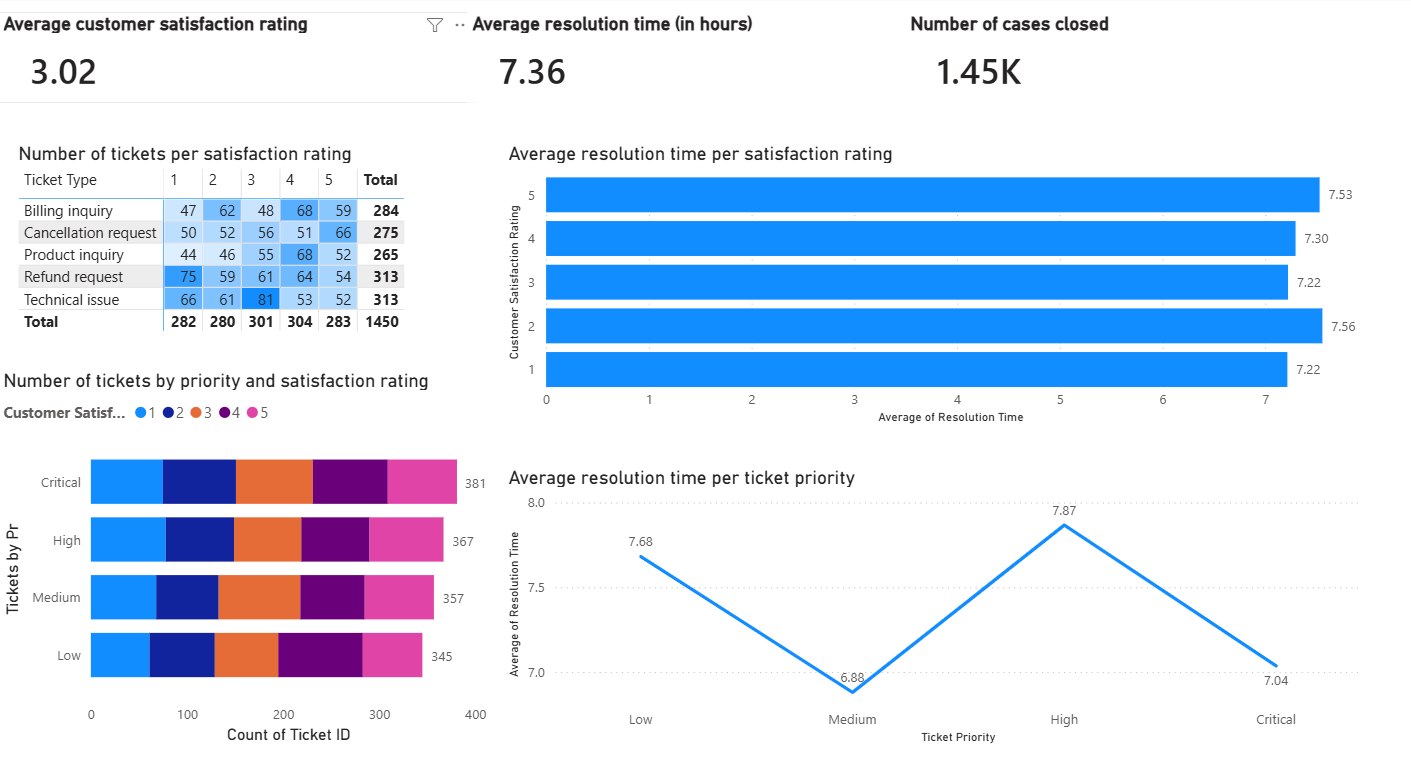

The page's visual inventory and layout, read from the dashboard file:
{"tool":"powerbi","page":{"name":"Page 1","canvas":[1280,720],"ordinal":0},"visuals":[{"type":"clusteredBarChart","title":"Average resolution time per satisfaction rating","fields":{"Category":["customer_support_tickets.Customer Satisfaction Rating"],"Y":["Avg(customer_support_tickets.Resolution Time)"]},"box":[456.8,131.2,780.7,259.6],"z":0},{"type":"pivotTable","title":"Number of tickets per satisfaction rating","fields":{"Rows":["customer_support_tickets.Ticket Type"],"Columns":["customer_support_tickets.Customer Satisfaction Rating"],"Values":["CountNonNull(customer_support_tickets.Ticket ID)"]},"box":[13.6,131.2,443.3,180],"z":1000},{"type":"cardVisual","title":"Average customer satisfaction rating","fields":{"Data":["Avg(customer_support_tickets.Customer Satisfaction Rating)"]},"box":[0,13.6,432.4,82.3],"z":2000},{"type":"cardVisual","title":"Average resolution time (in hours)","fields":{"Data":["Avg(customer_support_tickets.Resolution Time)"]},"box":[424.3,13.6,432.4,82.3],"z":3000},{"type":"barChart","title":"Number of tickets by priority and satisfaction rating","fields":{"Category":["customer_support_tickets.Ticket Priority"],"Series":["customer_support_tickets.Customer Satisfaction Rating"],"Y":["CountNonNull(customer_support_tickets.Ticket ID)"]},"box":[0,336.5,456.8,343.7],"z":4000},{"type":"cardVisual","title":"Number of cases closed","fields":{"Data":["CountNonNull(customer_support_tickets.Ticket ID)"]},"box":[820.5,13.6,372.7,82.3],"z":5000},{"type":"lineChart","title":"Average resolution time per ticket priority","fields":{"Category":["customer_support_tickets.Ticket Priority"],"Y":["Avg(customer_support_tickets.Resolution Time)"]},"box":[457,424,781,256],"z":6000}]}

Visuals, with their boxes in screenshot pixels (x1, y1, x2, y2), scaled from the page's 1280x720 canvas onto the 1411x780 screenshot:
"Average resolution time per satisfaction rating" clusteredBarChart: bbox=(504, 142, 1364, 423)
"Number of tickets per satisfaction rating" pivotTable: bbox=(15, 142, 504, 337)
"Average customer satisfaction rating" cardVisual: bbox=(0, 15, 477, 104)
"Average resolution time (in hours)" cardVisual: bbox=(468, 15, 944, 104)
"Number of tickets by priority and satisfaction rating" barChart: bbox=(0, 365, 504, 737)
"Number of cases closed" cardVisual: bbox=(904, 15, 1315, 104)
"Average resolution time per ticket priority" lineChart: bbox=(504, 459, 1365, 737)
